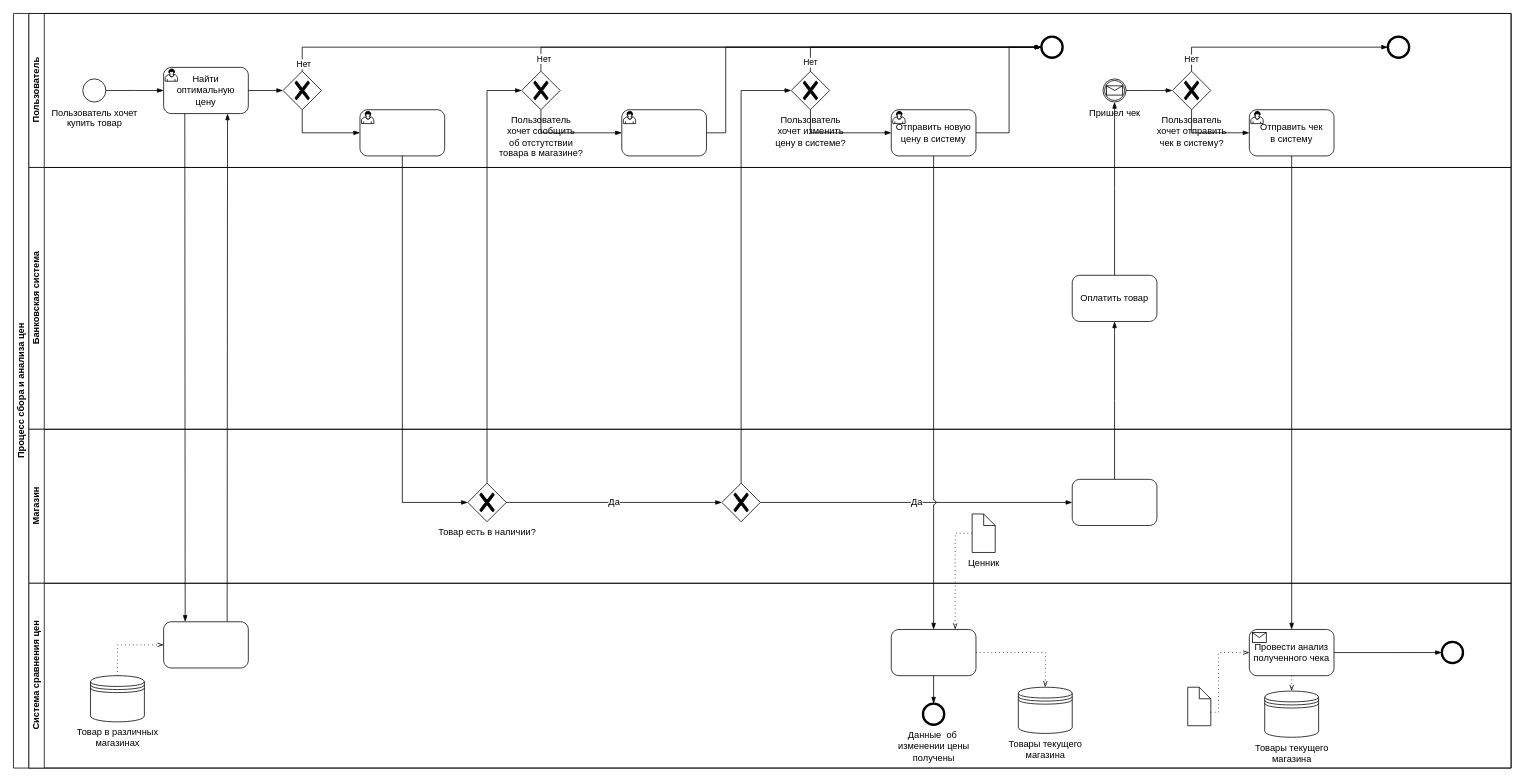
This 1525x782 diagram has some shape labels left out. The box of each missing label's shape, as (x1, y1, x2, y2) in pixels:
Внести изменение цены на товар: (891, 629, 976, 676)
Данные о покупке получены: (1441, 641, 1463, 663)
Пойти в магазин: (359, 109, 445, 156)
Получить данные о товаре в различных магазинах: (163, 621, 248, 668)
Пользователь пойдет в магазин?: (282, 70, 321, 110)
Приобрести товар: (1071, 479, 1157, 526)
Товар был куплен: (1387, 36, 1409, 58)
Товар не был куплен: (1041, 36, 1063, 58)
Уведомить систему об отстутствии товара в магазине: (621, 109, 706, 156)
Цена соответствует цене в системе?: (721, 482, 760, 522)
Чек: (1187, 686, 1211, 726)
